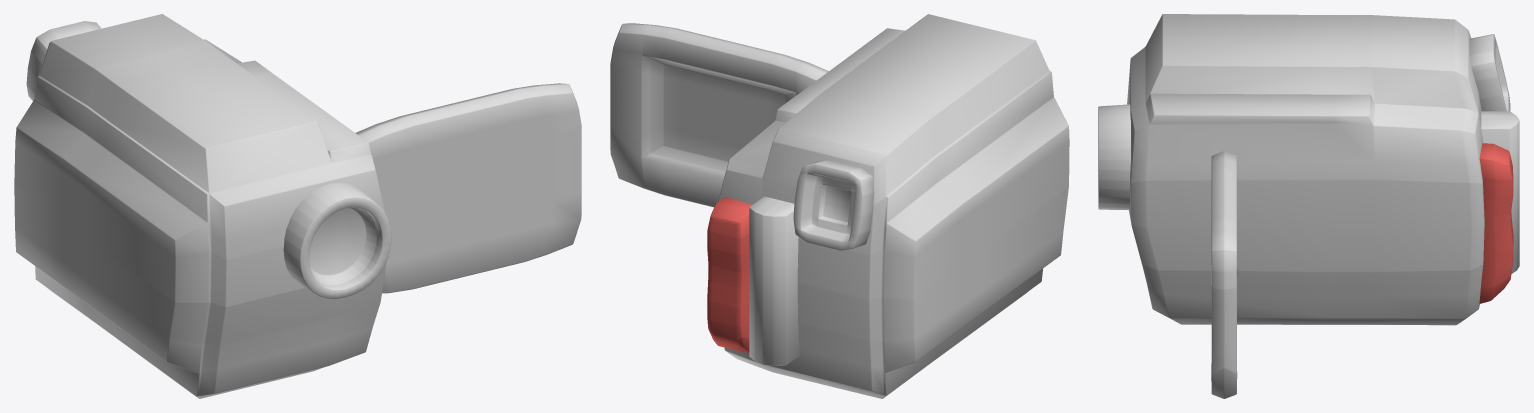
The model's file is CamCorderNew.fbx.
3 views of the same model, side by side, from view 1: azimuth 30°, elevation 25°; view 2: azimuth 150°, elevation 25°; view 3: azimuth 270°, elevation 25° (orthographic). The views are drawn at different scales.
Visible parts, largest first — view 1: Cube; view 2: Cube; view 3: Cube.
Boxes of the visible parts, left/top/right/bottom form: Cube: left=14, top=14, right=581, bottom=398; Cube: left=610, top=14, right=1069, bottom=398; Cube: left=1098, top=14, right=1519, bottom=398.
Bounding box in the file's own units: 400 × 224 × 351.
